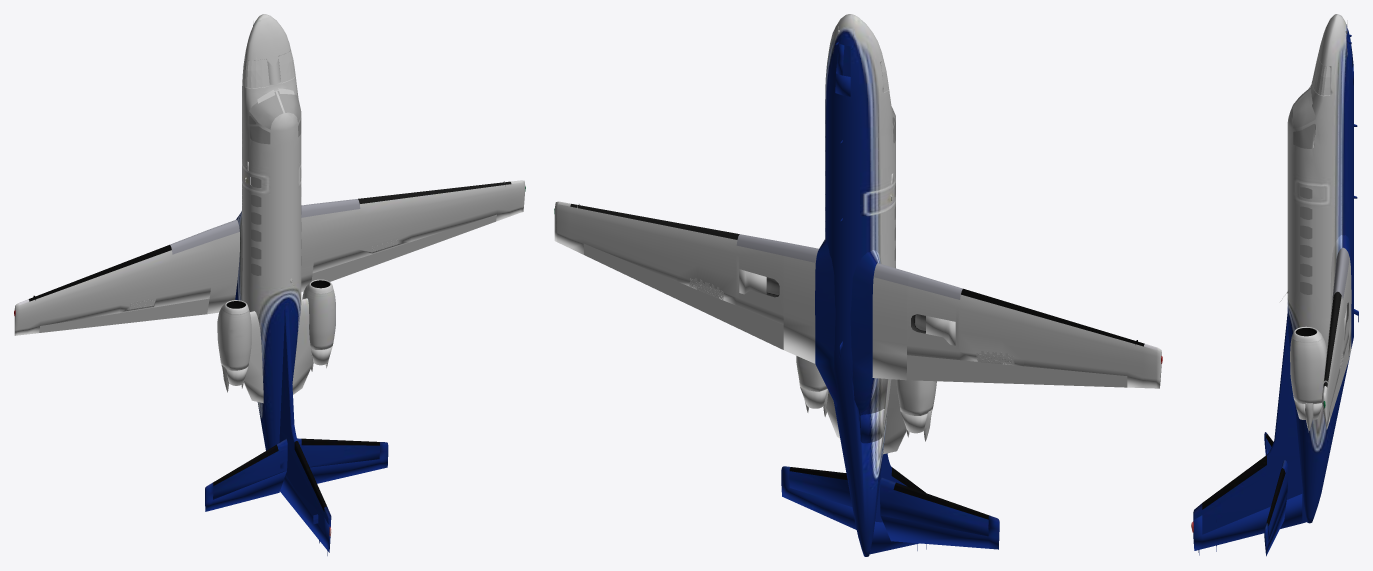
File: citation.glb
The picture shows the model from 3 angles, left to right: view 1: azimuth 30°, elevation 25°; view 2: azimuth 150°, elevation 25°; view 3: azimuth 270°, elevation 25°; orthographic projection. The views are drawn at different scales.
Visible parts, largest first — view 1: Fuselage, RHwing_002, LHwing_002, RHwing_003, LHwing_003, Hstab, Fin, Pylons, LHwing_001, LEngine, REngine, Glass (+11 smaller); view 2: Fuselage, LHwing_002, LHwing_003, RHwing_002, RHwing_003, Hstab, LHwing_001, RHwing_001, LHflap, RHflap, LHelevator, LHaileron (+7 smaller); view 3: Fuselage, Fin, Rudder, REngine, Glass, Glass_001, RHwing_003, RHwing_002, Fin_001, Hstab, Front_BaggageDoor_RH, RHelevator (+10 smaller).
Boxes of the visible parts, x1=… form: Fuselage: x1=235, y1=14, x2=301, y2=450; RHwing_002: x1=312, y1=197, x2=413, y2=273; LHwing_002: x1=119, y1=240, x2=214, y2=312; RHwing_003: x1=410, y1=180, x2=525, y2=241; LHwing_003: x1=14, y1=268, x2=122, y2=335; Hstab: x1=213, y1=438, x2=379, y2=499; Fin: x1=279, y1=303, x2=331, y2=534; Pylons: x1=244, y1=298, x2=313, y2=403; LHwing_001: x1=207, y1=232, x2=239, y2=314; LEngine: x1=217, y1=307, x2=251, y2=370; REngine: x1=302, y1=286, x2=335, y2=349; Glass: x1=249, y1=91, x2=301, y2=144; Fuselage: x1=815, y1=14, x2=895, y2=556; LHwing_002: x1=907, y1=286, x2=1024, y2=366; LHwing_003: x1=1024, y1=313, x2=1162, y2=388; RHwing_002: x1=677, y1=228, x2=784, y2=324; RHwing_003: x1=554, y1=201, x2=678, y2=281; Hstab: x1=789, y1=471, x2=988, y2=536; LHwing_001: x1=872, y1=277, x2=907, y2=380; RHwing_001: x1=783, y1=256, x2=815, y2=363; LHflap: x1=906, y1=355, x2=1023, y2=383; RHflap: x1=677, y1=282, x2=783, y2=349; LHelevator: x1=880, y1=515, x2=999, y2=549; LHaileron: x1=1024, y1=366, x2=1127, y2=387; Fuselage: x1=1280, y1=14, x2=1358, y2=523; Fin: x1=1193, y1=313, x2=1306, y2=534; Rudder: x1=1193, y1=494, x2=1302, y2=555; REngine: x1=1290, y1=334, x2=1326, y2=404; Glass: x1=1293, y1=87, x2=1315, y2=148; Glass_001: x1=1300, y1=187, x2=1312, y2=294; RHwing_003: x1=1322, y1=329, x2=1338, y2=429; RHwing_002: x1=1329, y1=275, x2=1348, y2=375; Fin_001: x1=1202, y1=455, x2=1266, y2=509; Hstab: x1=1266, y1=438, x2=1288, y2=540; Front_BaggageDoor_RH: x1=1312, y1=59, x2=1330, y2=95; RHelevator: x1=1264, y1=494, x2=1287, y2=556.
Size of the model in its own units: 15.62 by 14.48 by 4.06.
Materials: 4 (2 with a texture image).
